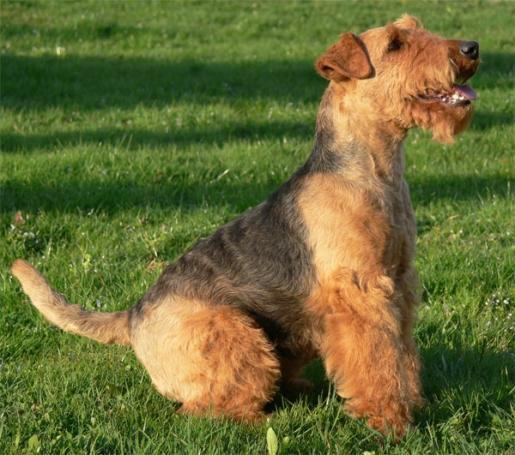wire-haired_fox_terrier: (10, 12, 481, 434)
